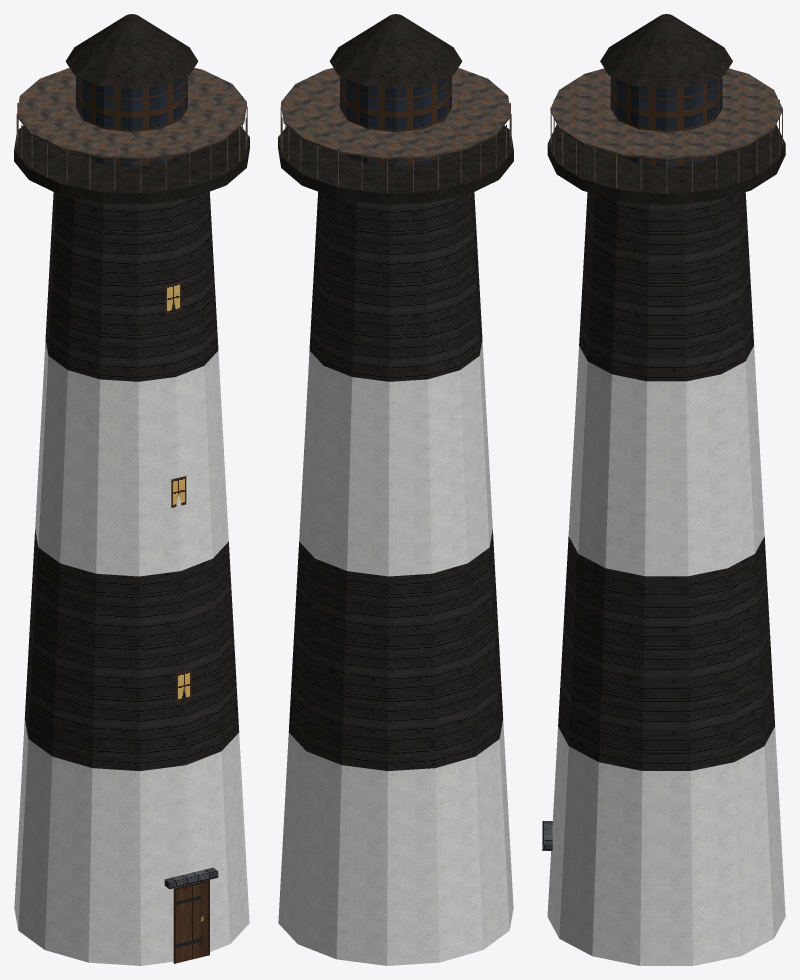
Rendered from faro_niebla.obj.
The picture shows the model from 3 angles, left to right: view 1: azimuth 30°, elevation 25°; view 2: azimuth 150°, elevation 25°; view 3: azimuth 270°, elevation 25°; orthographic projection.
Visible parts, largest first — view 1: faro_niebla; view 2: faro_niebla; view 3: faro_niebla.
Part boxes in pixels (x1,y1,x2,y2): faro_niebla: (14, 14, 249, 965); faro_niebla: (278, 14, 513, 965); faro_niebla: (542, 14, 785, 965).
Bounding box in the file's own units: 6.8 × 28.35 × 6.95.
8 materials, 8 textured.
